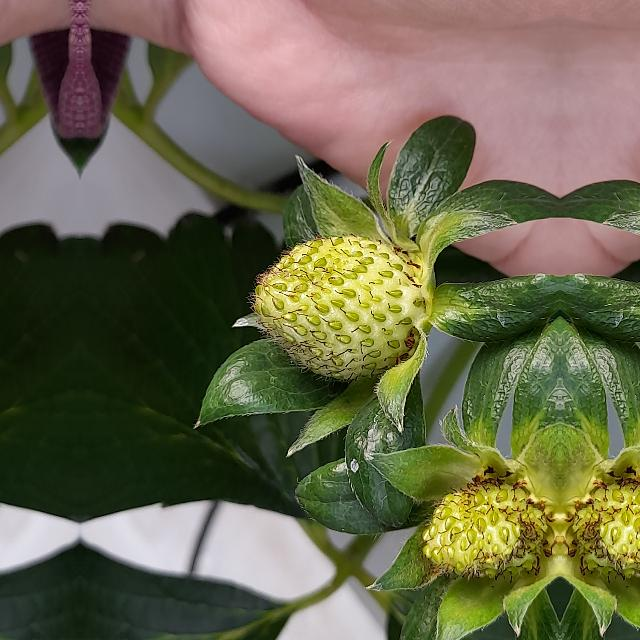Health_25: (244, 232, 422, 386), (424, 478, 552, 584), (568, 478, 640, 584)
